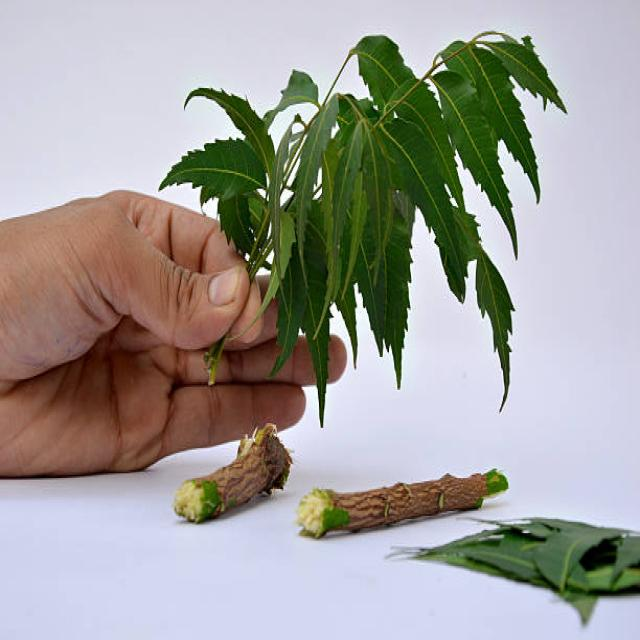Neem-Tree: (161, 32, 565, 422)
